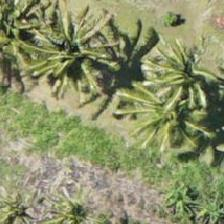coconut_tree: (46, 14, 136, 104), (128, 65, 218, 155), (146, 30, 223, 120), (24, 175, 114, 223), (0, 0, 52, 73)
